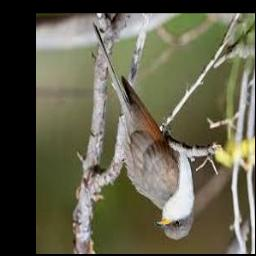Cuckoo: (92, 22, 196, 240)
